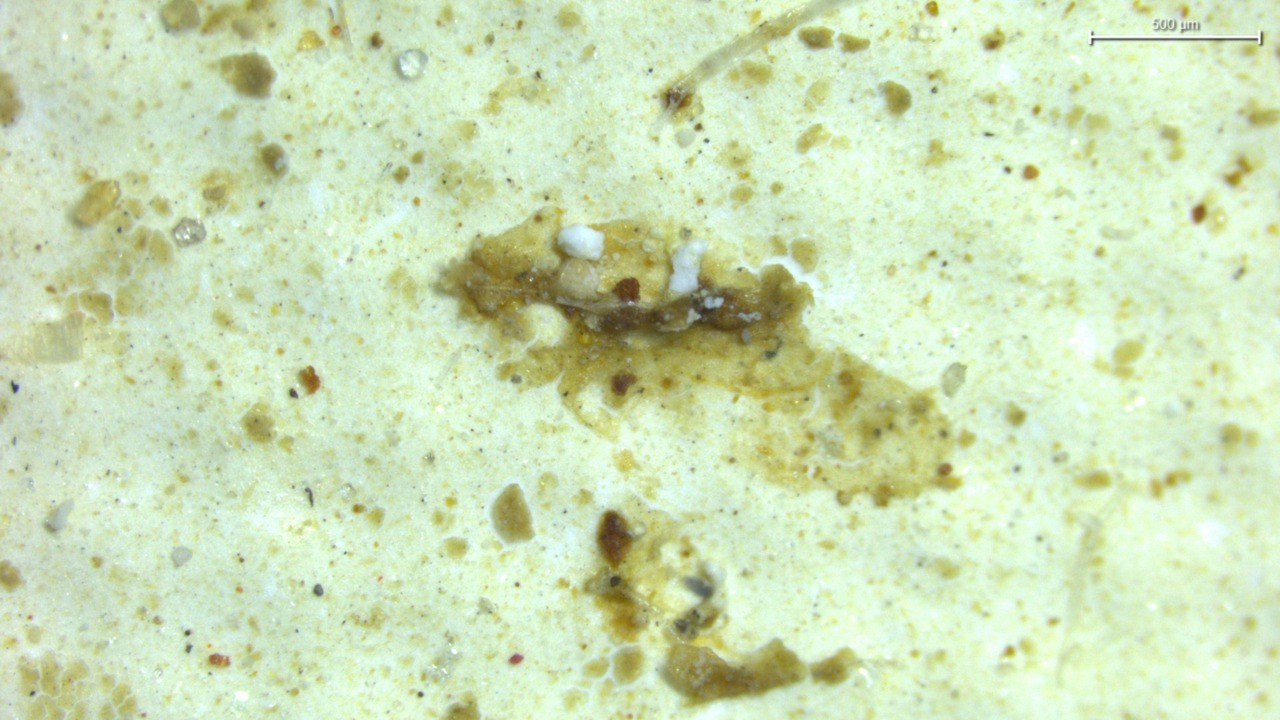microplastic_fragment: (4, 313, 84, 363), (669, 239, 707, 294), (73, 180, 119, 225), (558, 224, 604, 260), (171, 217, 206, 247), (44, 500, 74, 533), (398, 49, 428, 78)
